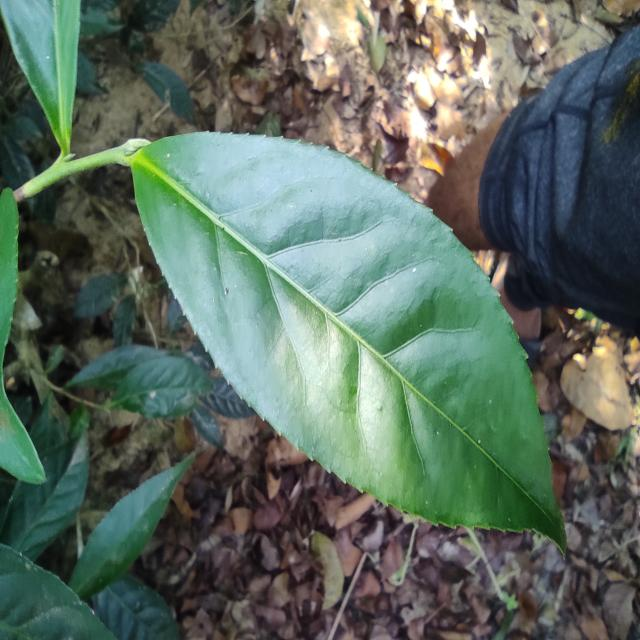Category D 7+ days, Not for Tea: (122, 128, 563, 556)
